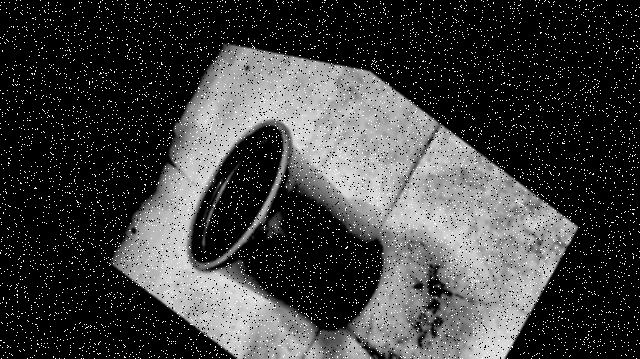pot: (187, 119, 382, 327)
